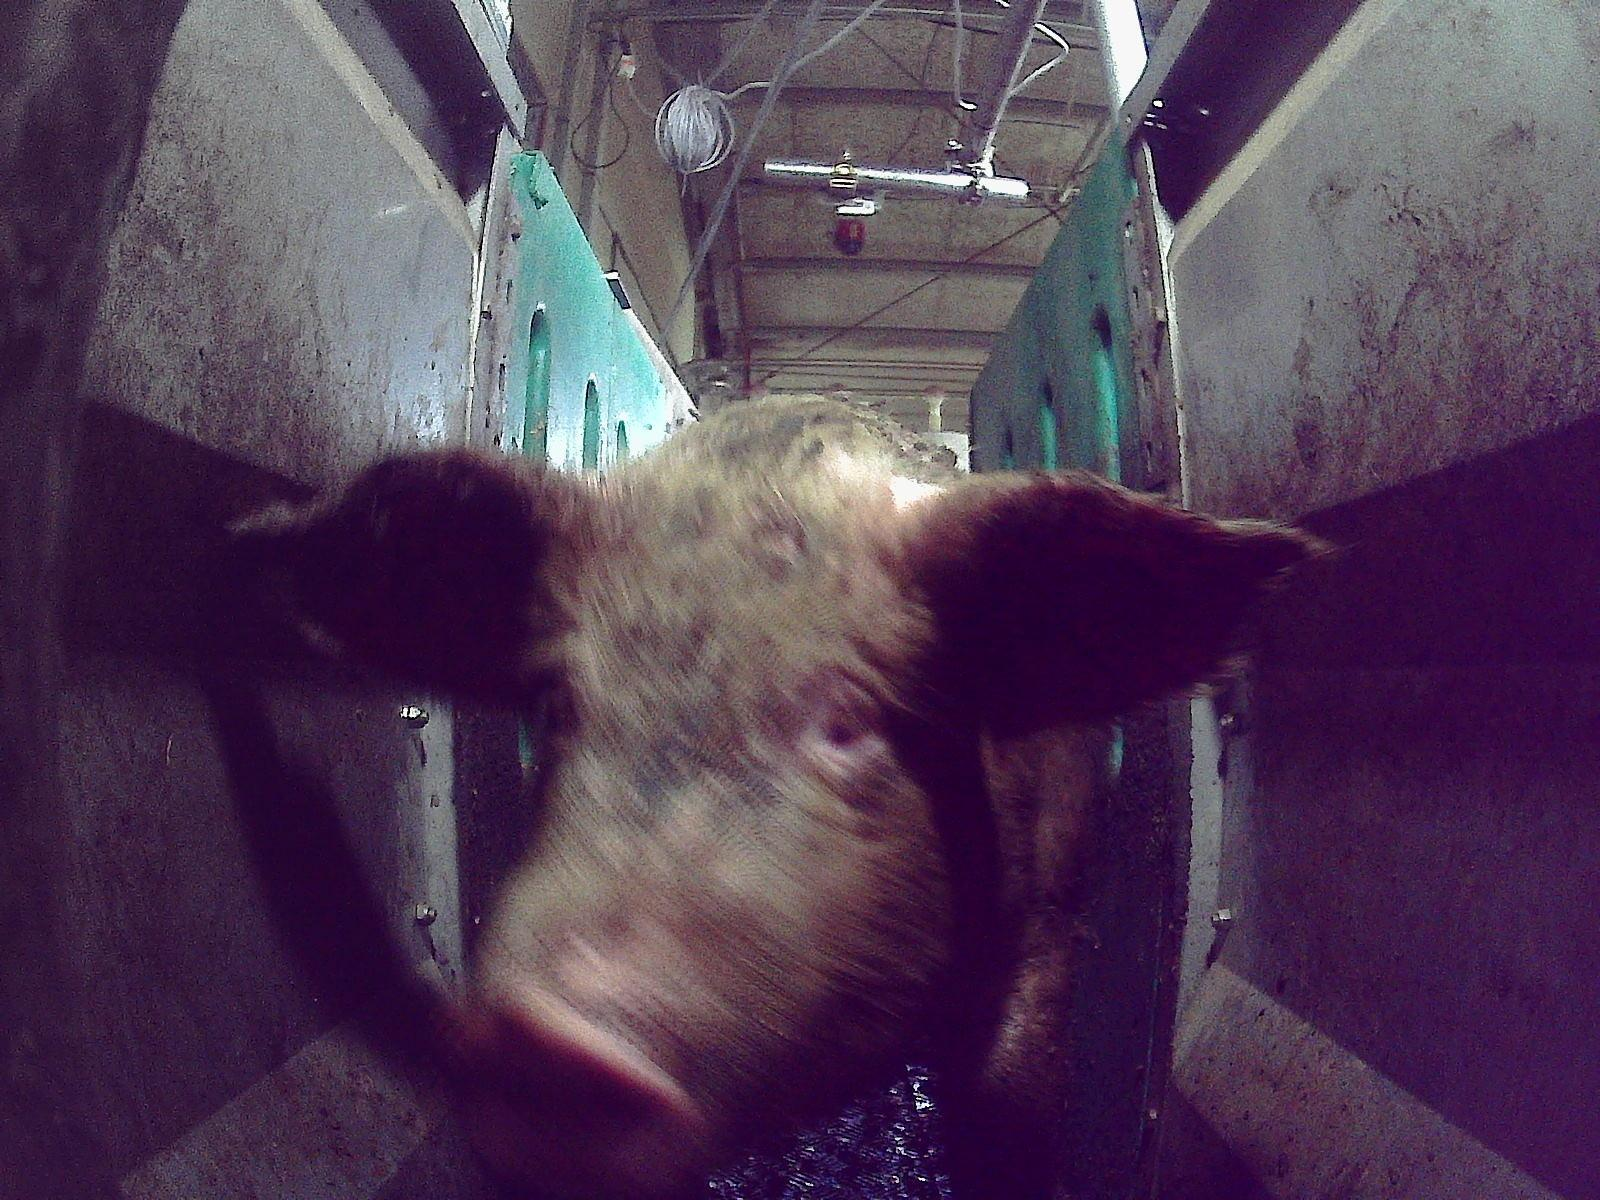Face: (452, 488, 978, 1197)
